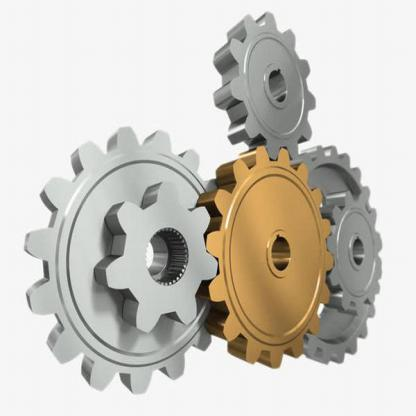FOD: (26, 122, 230, 390), (198, 146, 337, 380), (287, 137, 385, 367), (92, 178, 219, 336), (210, 3, 320, 164), (324, 181, 384, 320)
